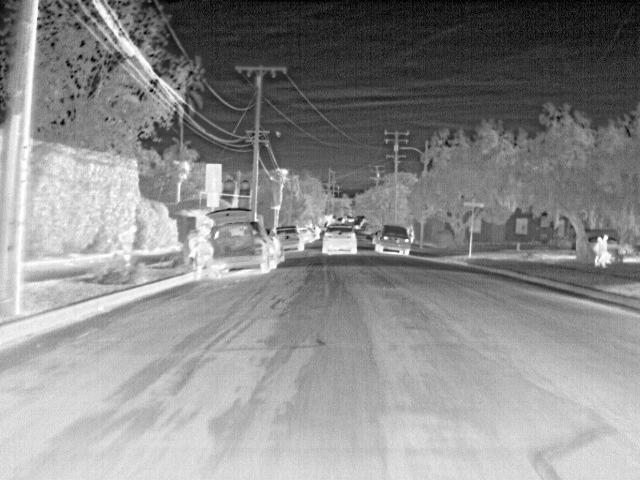car: (216, 222, 279, 274), (373, 224, 412, 258), (320, 224, 358, 257), (267, 227, 287, 266), (279, 225, 305, 251), (300, 225, 317, 242), (352, 220, 362, 230), (357, 214, 366, 222)
person: (197, 240, 216, 276), (122, 224, 138, 266), (601, 233, 610, 267), (595, 235, 604, 268), (193, 222, 209, 237)
